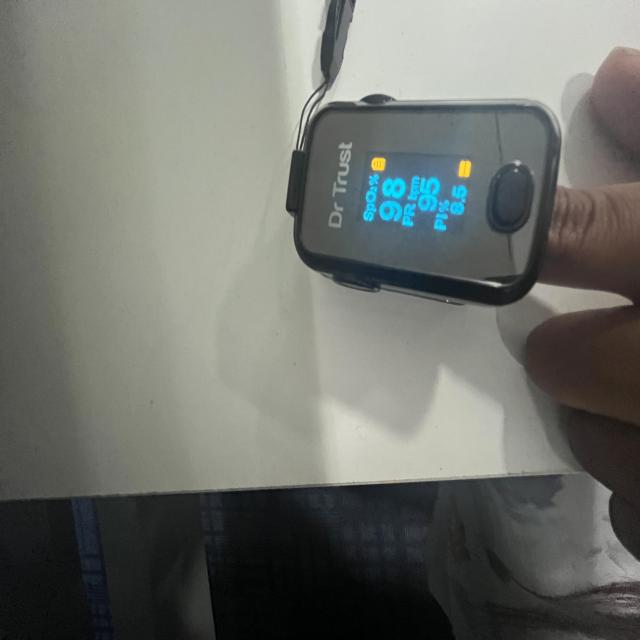spo2: (290, 95, 563, 308)
